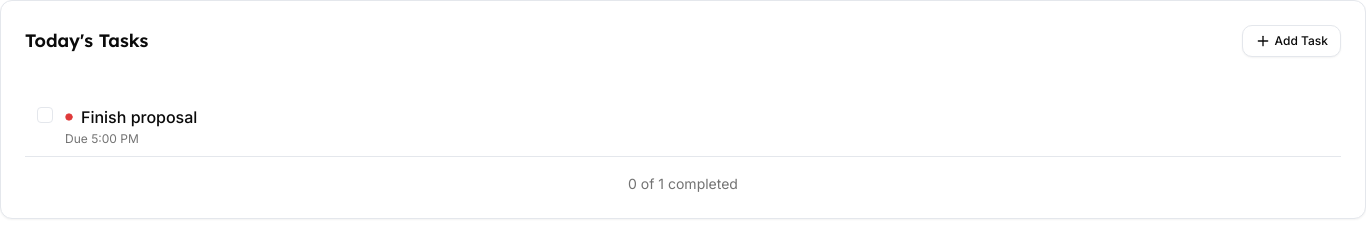
Test case: TasksToday › reflection strip › shows reflection strip when P3 task is completed
Click the checkbox. click: (45, 115)
box: 37,107 -> 53,123
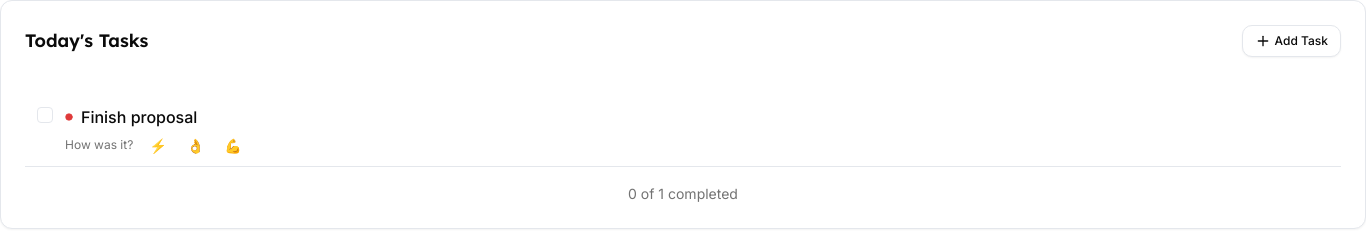
Expected: the text "How was it?" is shown, 65,137 -> 133,154
Expected: the button titled "Easy" is shown, 141,133 -> 175,158
Expected: the button titled "Good" is shown, 179,133 -> 212,158
